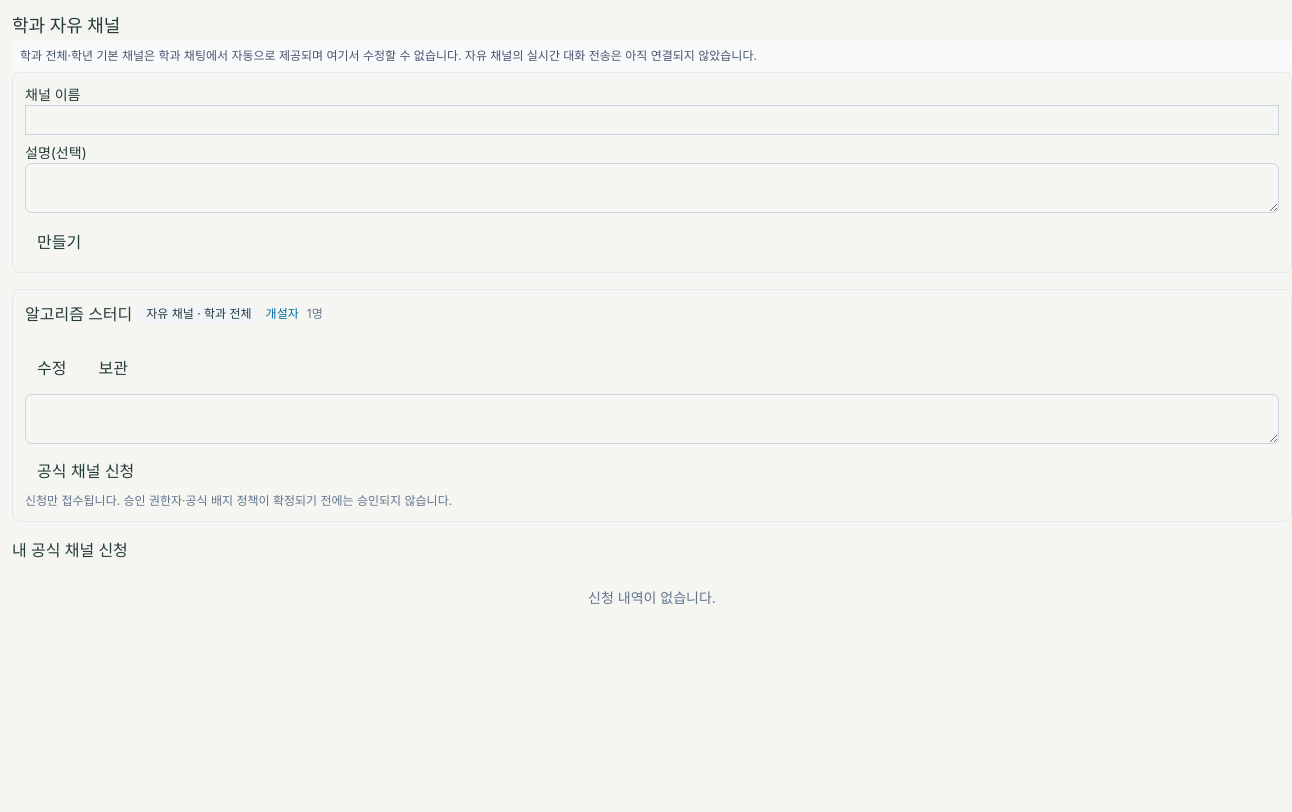
Test case: free channels page › submits an official request and shows it as pending with approval blocked
Type "학과 공식 학습 공동체로 운영" into the text box named "공식 채널 신청 사유" at [652, 419], box [25,394,1279,444]
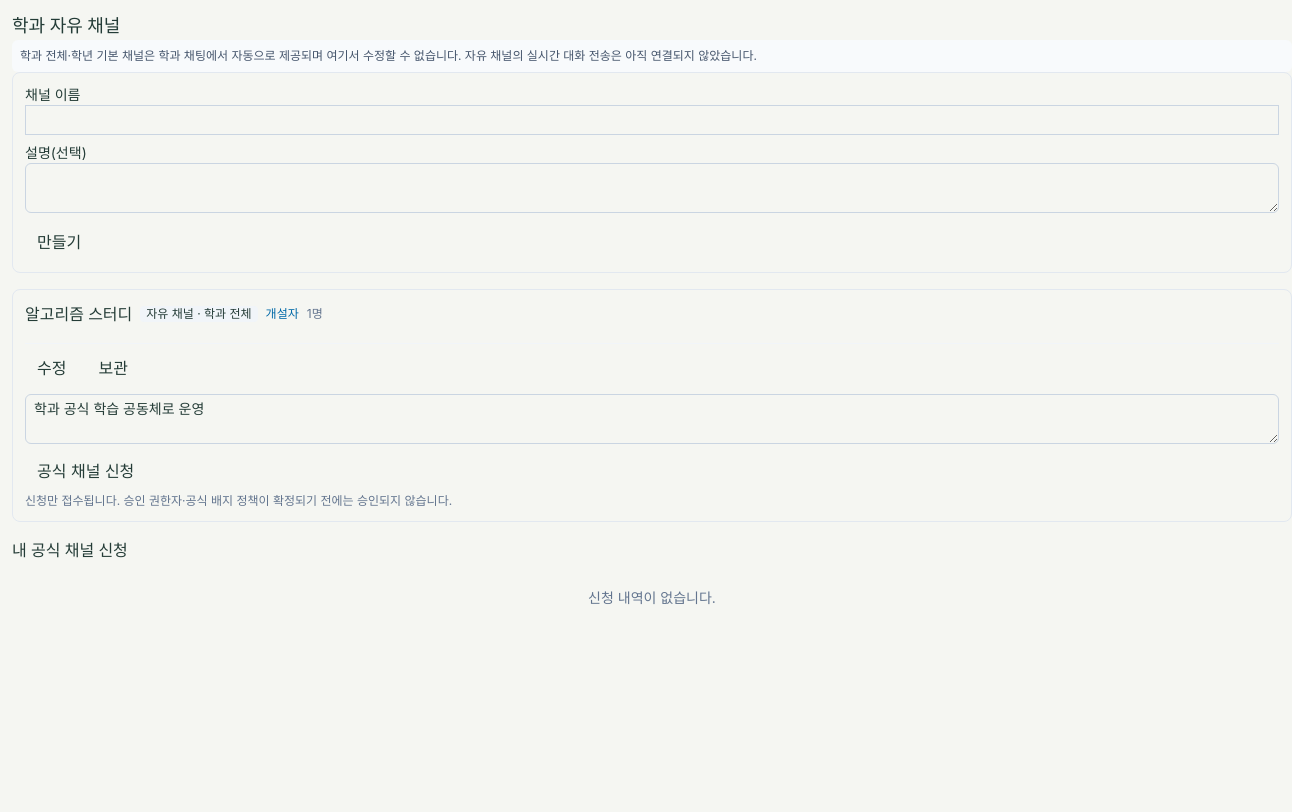
Click the button "공식 채널 신청" at [86, 472], box [25,455,146,489]
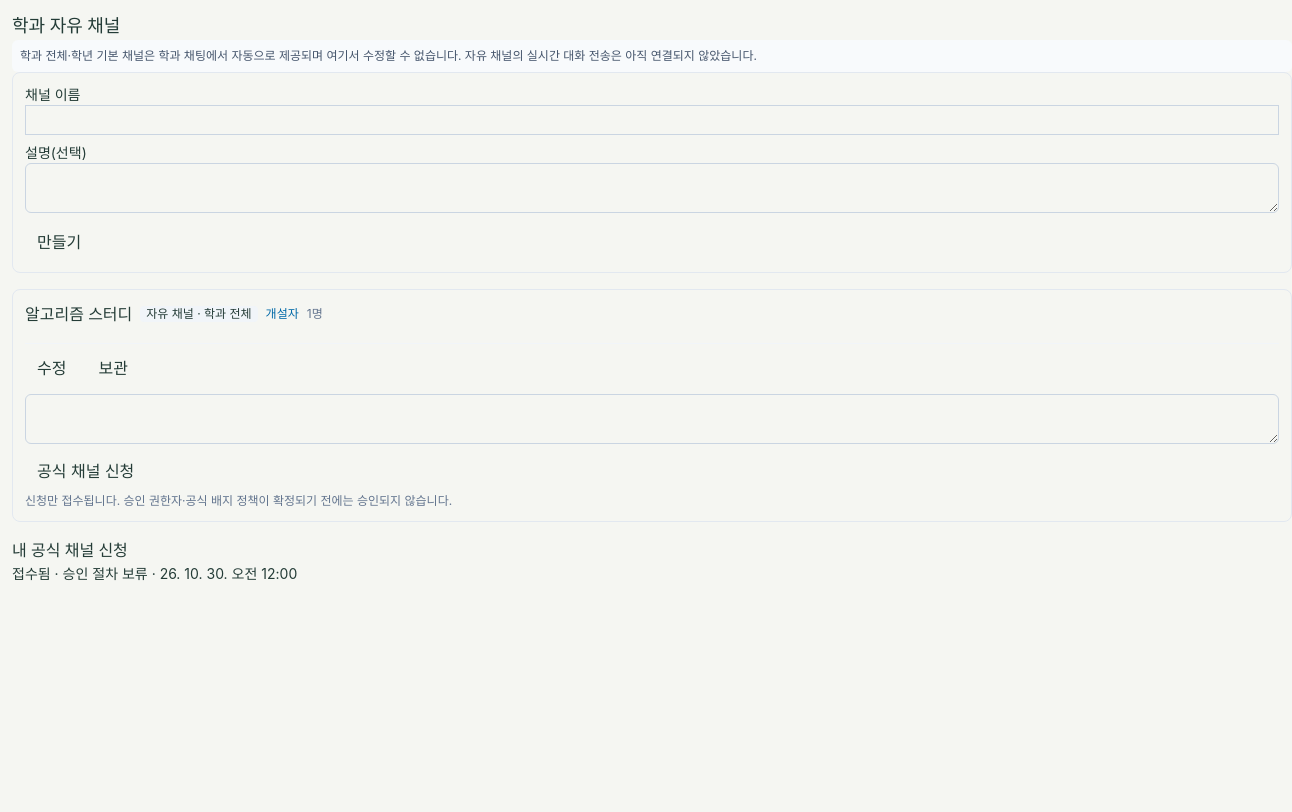
Expected: the list item "접수됨 · 승인 절차 보류" is shown, [12,565,148,582]
